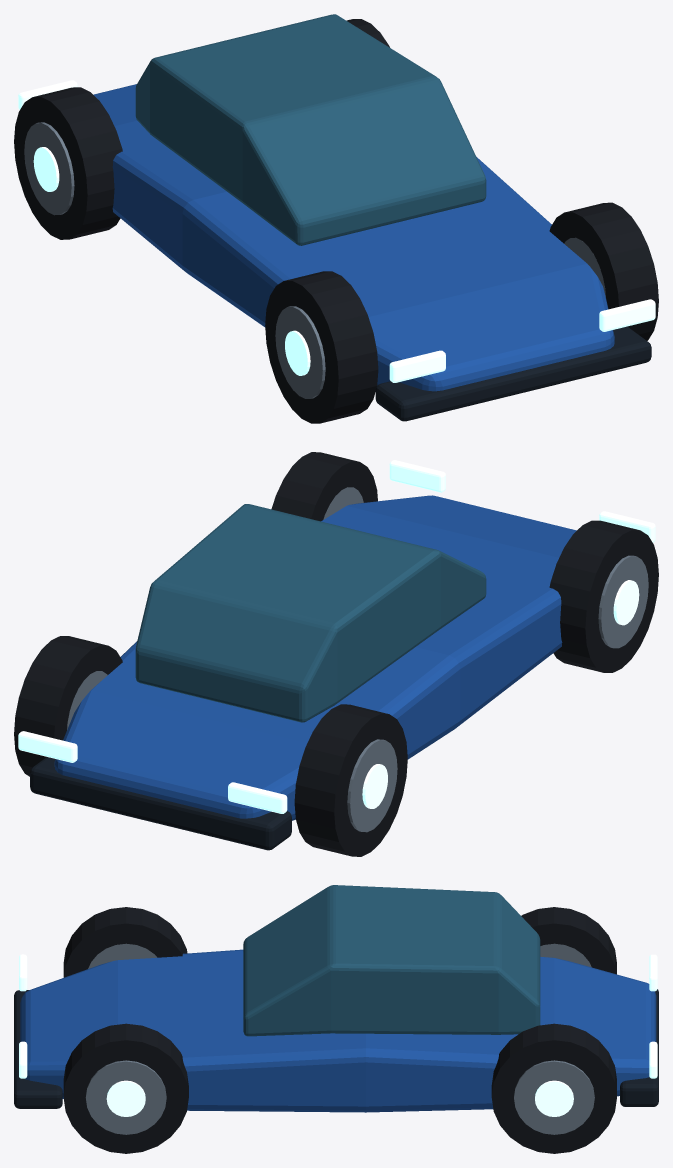
The model's file is rainlineharborgt.glb.
3 views of the same model, one above another, from view 1: azimuth 30°, elevation 25°; view 2: azimuth 150°, elevation 25°; view 3: azimuth 270°, elevation 25° (orthographic). The views are drawn at different scales.
Visible parts, largest first — view 1: BodyShell, GlassCanopy, Tire, Tire.001, Splitter, Tire.002, Wheel.001, Wheel, Headlight, Headlight.001, BrakeDisc, BrakeDisc.001 (+1 smaller); view 2: BodyShell, GlassCanopy, Tire.001, Tire, Diffuser, Tire.003, Tire.002, Wheel.001, Wheel, Headlight.001, Taillight.001, Taillight (+5 smaller); view 3: BodyShell, GlassCanopy, Tire.002, Tire.003, Tire, Wheel.003, Wheel.002, Tire.001, Splitter, Diffuser, BrakeDisc.002, BrakeDisc.003 (+2 smaller).
Part boxes in pixels (x1,y1,x2,y2): BodyShell: [93, 84, 614, 391]; GlassCanopy: [135, 14, 486, 245]; Tire: [265, 271, 378, 423]; Tire.001: [14, 87, 122, 239]; Splitter: [375, 326, 651, 421]; Tire.002: [549, 202, 658, 340]; Wheel.001: [24, 122, 74, 215]; Wheel: [275, 306, 325, 398]; Headlight: [389, 350, 445, 382]; Headlight.001: [599, 299, 655, 331]; BrakeDisc: [285, 330, 310, 375]; BrakeDisc.001: [33, 147, 59, 191]; BodyShell: [54, 495, 576, 820]; GlassCanopy: [135, 504, 486, 722]; Tire.001: [294, 704, 407, 856]; Tire: [549, 520, 658, 672]; Diffuser: [30, 757, 291, 850]; Tire.003: [14, 636, 122, 776]; Tire.002: [271, 452, 377, 521]; Wheel.001: [347, 739, 397, 832]; Wheel: [598, 555, 648, 648]; Headlight.001: [389, 460, 445, 492]; Taillight.001: [18, 731, 77, 762]; Taillight: [228, 782, 287, 813]; BodyShell: [20, 949, 656, 1112]; GlassCanopy: [243, 885, 540, 1036]; Tire.002: [63, 1023, 188, 1153]; Tire.003: [491, 1023, 616, 1153]; Tire: [63, 907, 187, 977]; Wheel.003: [514, 1060, 594, 1134]; Wheel.002: [85, 1060, 166, 1134]; Tire.001: [521, 907, 616, 974]; Splitter: [14, 990, 62, 1108]; Diffuser: [620, 989, 658, 1106]; BrakeDisc.002: [106, 1080, 145, 1116]; BrakeDisc.003: [535, 1080, 573, 1116].
Size of the model in its own units: 2.34 by 1.29 by 4.63.
